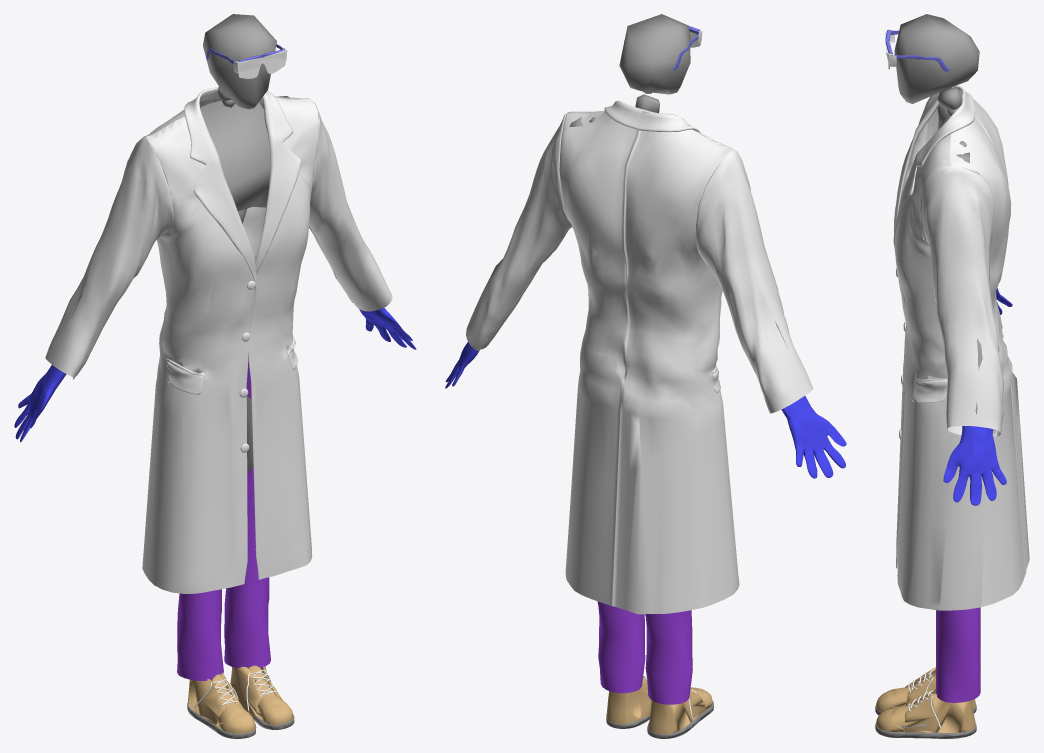
File: maniquin.glb
3 views of the same model, side by side, from view 1: azimuth 30°, elevation 25°; view 2: azimuth 150°, elevation 25°; view 3: azimuth 270°, elevation 25° (orthographic).
Visible parts, largest first — view 1: torso, mannequin, Tube002, manniq, Lglove, Lglove001, GoggleGlass; view 2: torso, Tube002, mannequin, manniq, Lglove; view 3: torso, mannequin, manniq, Tube002, Lglove001, goggleFrame.
Part boxes in pixels (left/top/right/bottom): torso: left=45, top=87, right=392, bottom=593; mannequin: left=200, top=14, right=276, bottom=680; Tube002: left=177, top=361, right=270, bottom=680; manniq: left=187, top=665, right=294, bottom=738; Lglove: left=14, top=365, right=66, bottom=442; Lglove001: left=359, top=308, right=416, bottom=349; GoggleGlass: left=233, top=48, right=287, bottom=78; torso: left=466, top=100, right=813, bottom=614; Tube002: left=597, top=601, right=692, bottom=704; mannequin: left=619, top=14, right=690, bottom=113; manniq: left=606, top=676, right=713, bottom=738; Lglove: left=781, top=396, right=846, bottom=478; torso: left=893, top=85, right=1029, bottom=610; mannequin: left=894, top=14, right=979, bottom=729; manniq: left=875, top=667, right=976, bottom=738; Tube002: left=936, top=607, right=980, bottom=702; Lglove001: left=943, top=426, right=1006, bottom=505; goggleFrame: left=885, top=29, right=949, bottom=71.
Bounding box in the file's own units: 1.1 × 1.85 × 0.3716.
